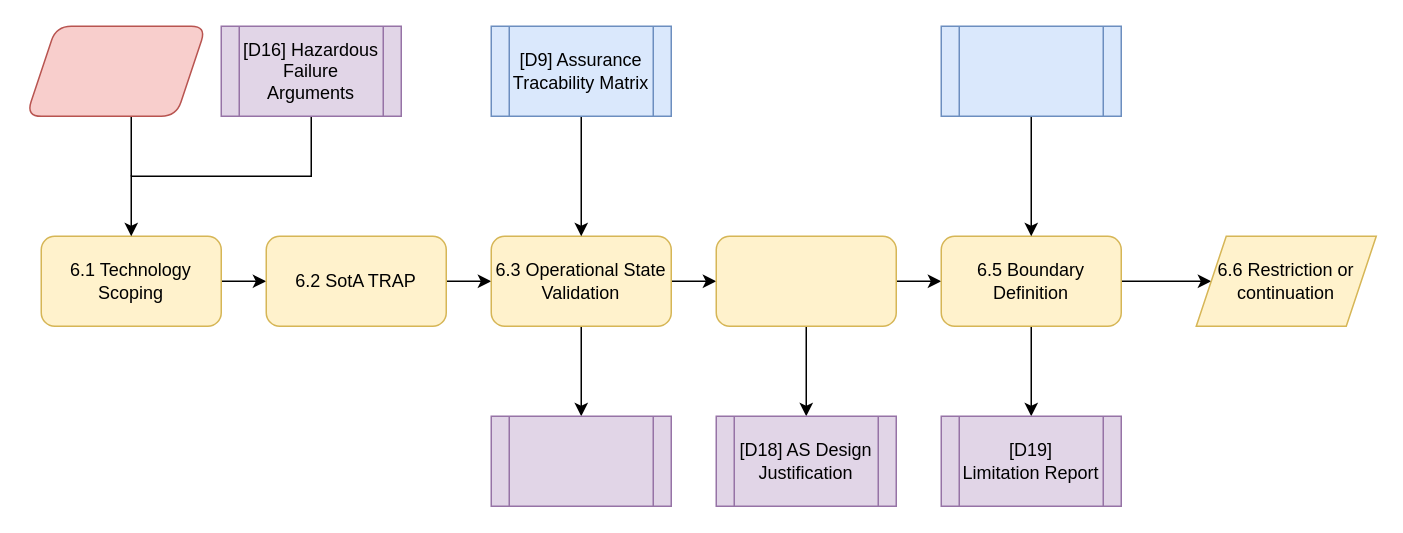
Image size: 1403x533. Some labels were removed from this diagram. The shapes that lost their labels are listed below. From the top down, each one's box as (x1, y1, x2, y2) in pixels, then its label:
(25, 25, 206, 116): [A] Scoped SotA
(940, 25, 1121, 116): [D10] Limitation Report
(715, 235, 896, 326): 6.4 Simulation and Experimentation
(490, 415, 671, 506): [D17] AS Development Log
